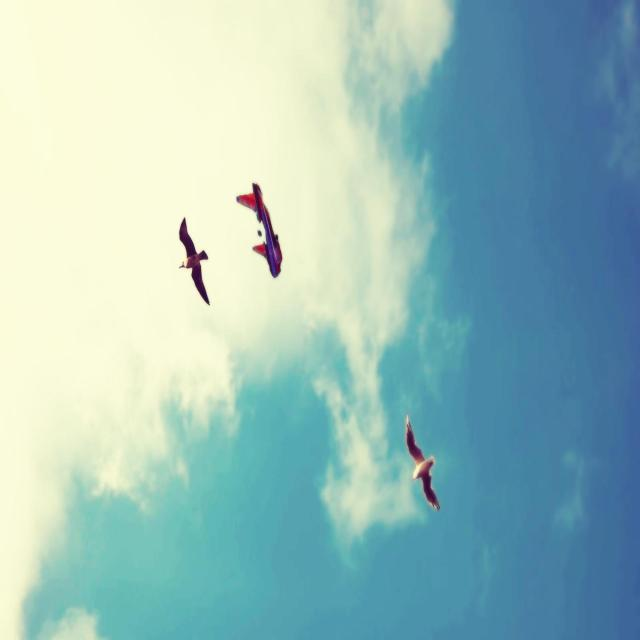airplane: (236, 182, 282, 278)
